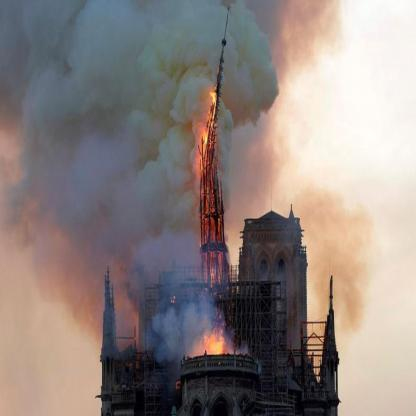fire: (192, 68, 238, 360)
smoke: (19, 3, 191, 277)
